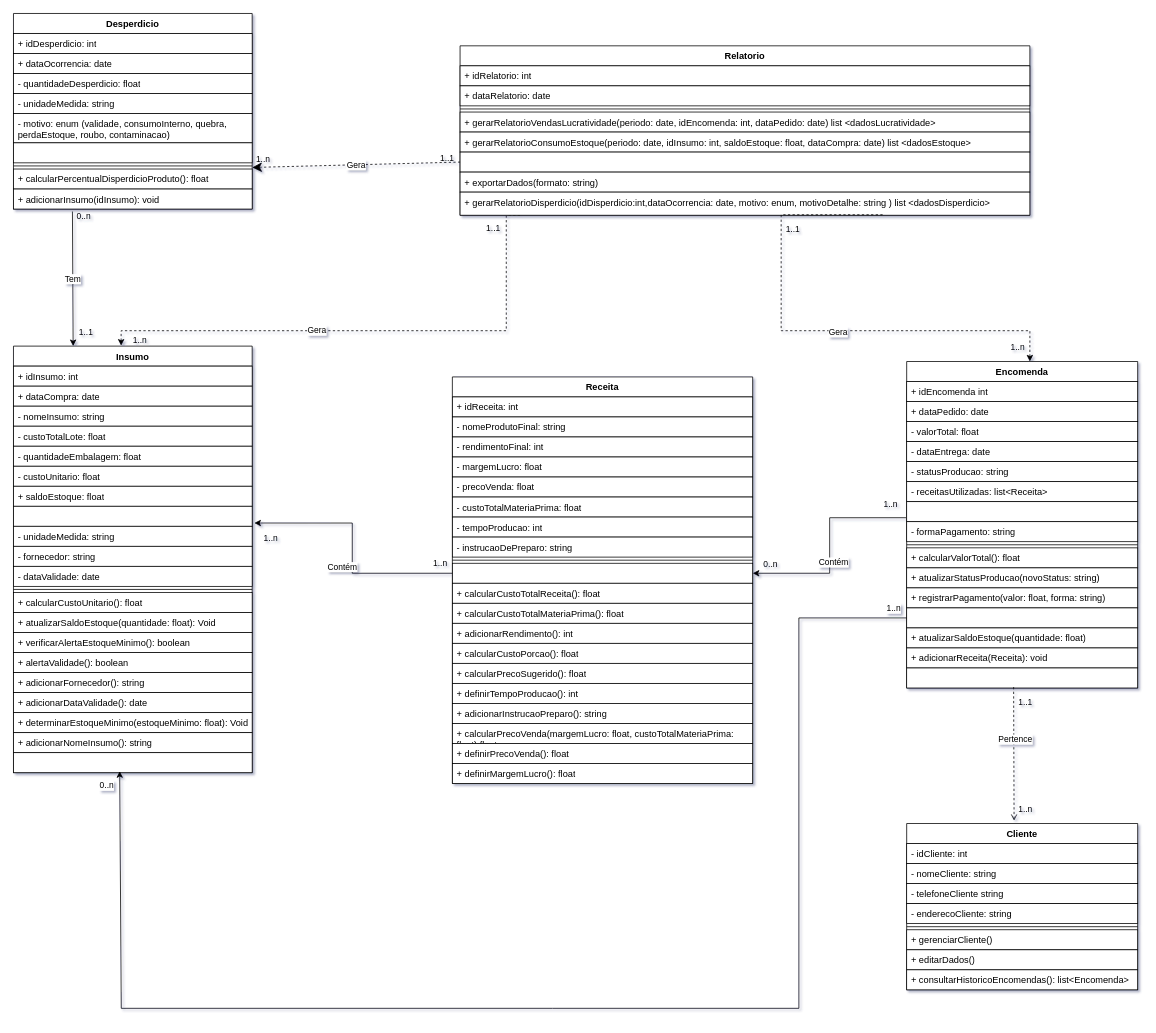
The diagram is 1156 pixels wide and 1033 high, and some of its shapes have lost their labels. Here are the shapes that lost their labels. From the top down, the centre of each, then its label:
At [132,152]: "- motivoDetalhe: string".
At [744,161]: "+ gerarIndicadoresMaisVendidos(gerarRelatórioVendas()) list <dadosMaisVendidos>".
At [132,516]: "- estoqueMinimo: float".
At [1022,511]: "- statusPagamento: string".
At [602,572]: "+ adicionarInsumo (idInsumo: int): Void".
At [1022,617]: "+ atualizarStatusPagamento(novoStatus: string)".
At [1022,677]: "+ atribuirCliente(idCliente, idEncomenda): void".
At [132,762]: "+ adicionarUnidadeMedida(): string".
